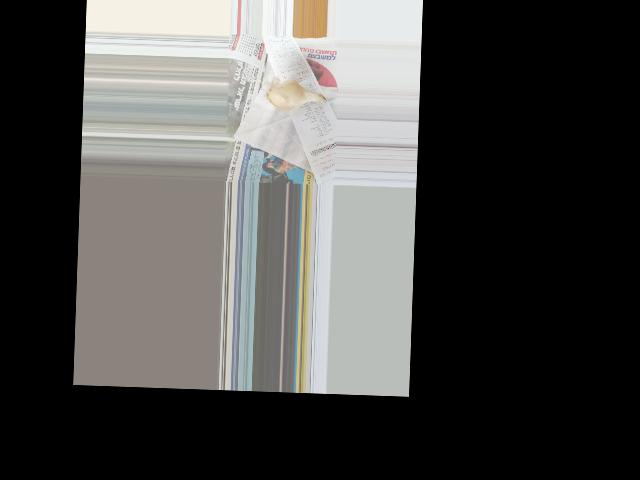onion: (267, 80, 311, 113)
